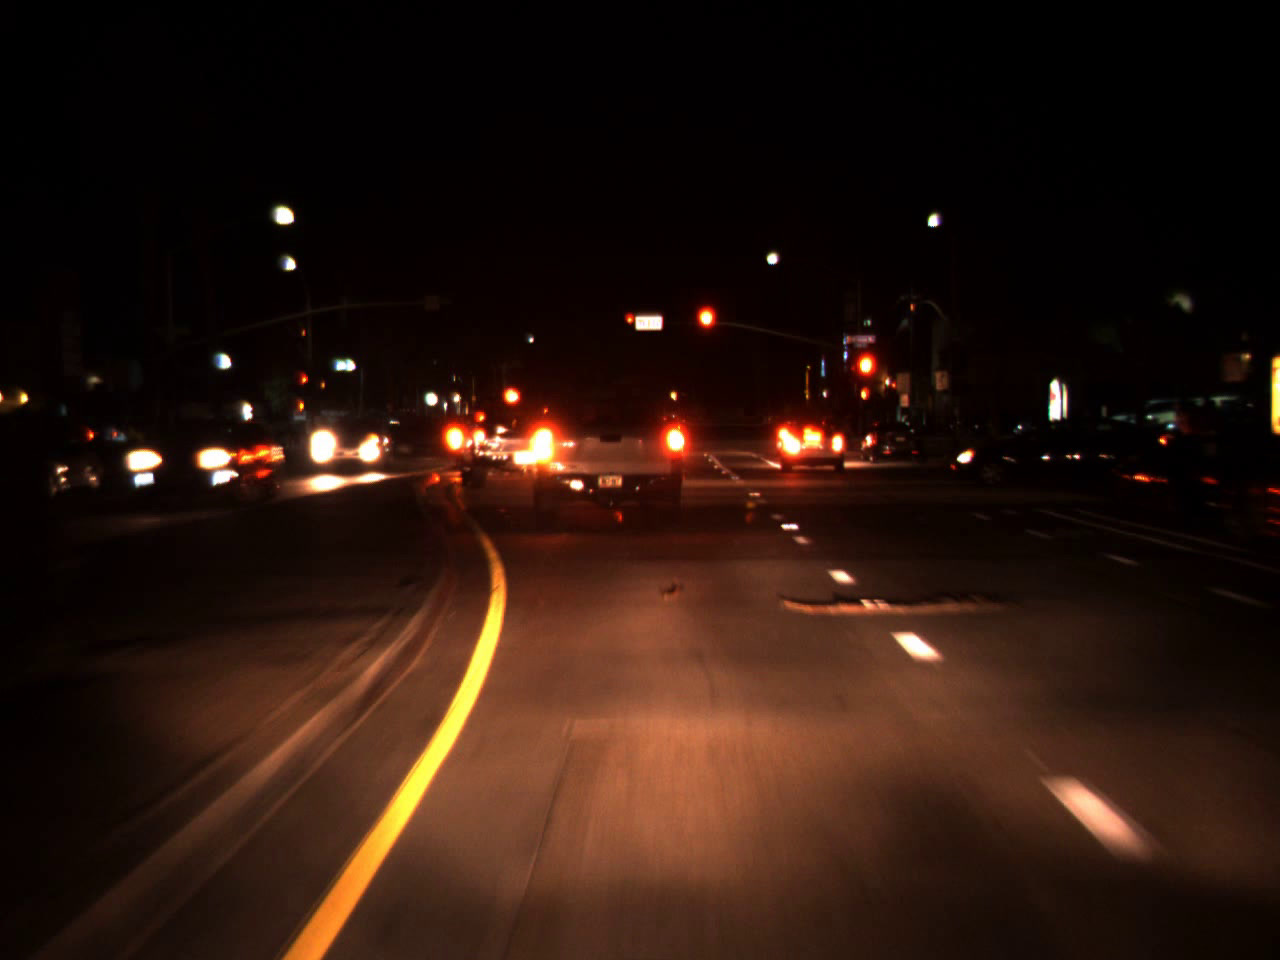stop: (852, 348, 880, 407), (695, 303, 719, 357), (625, 311, 635, 335), (300, 373, 309, 394)
